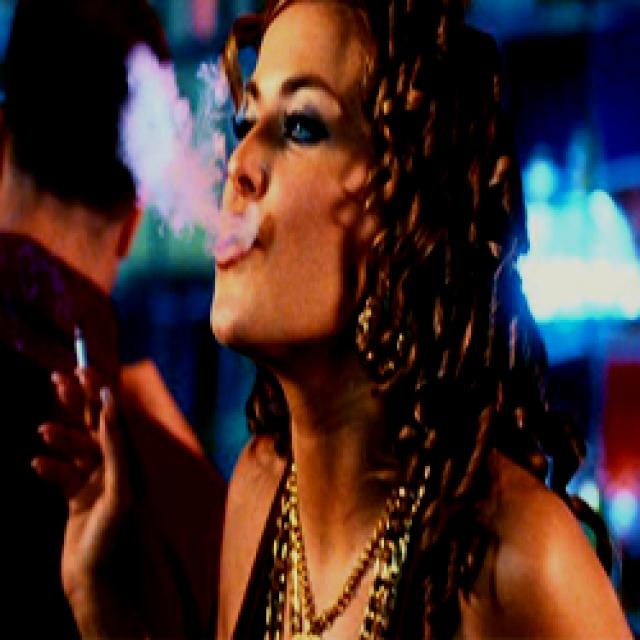Smooking: (58, 322, 94, 369)
